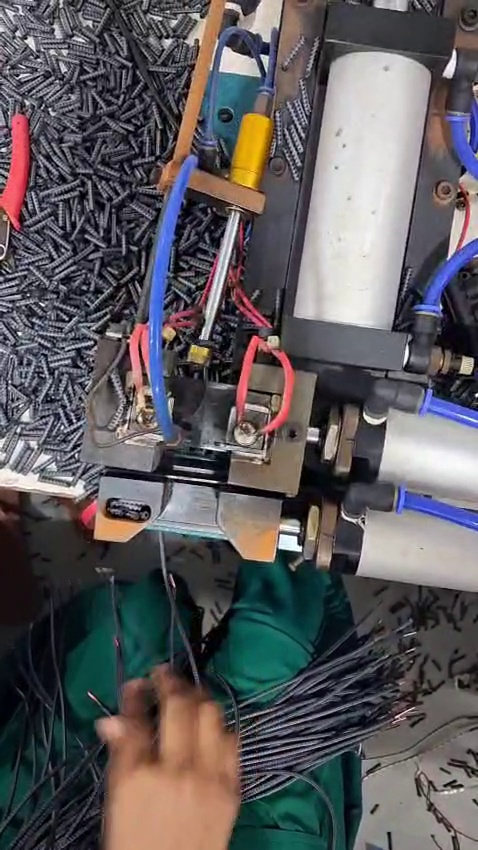machine: (67, 295, 329, 543)
